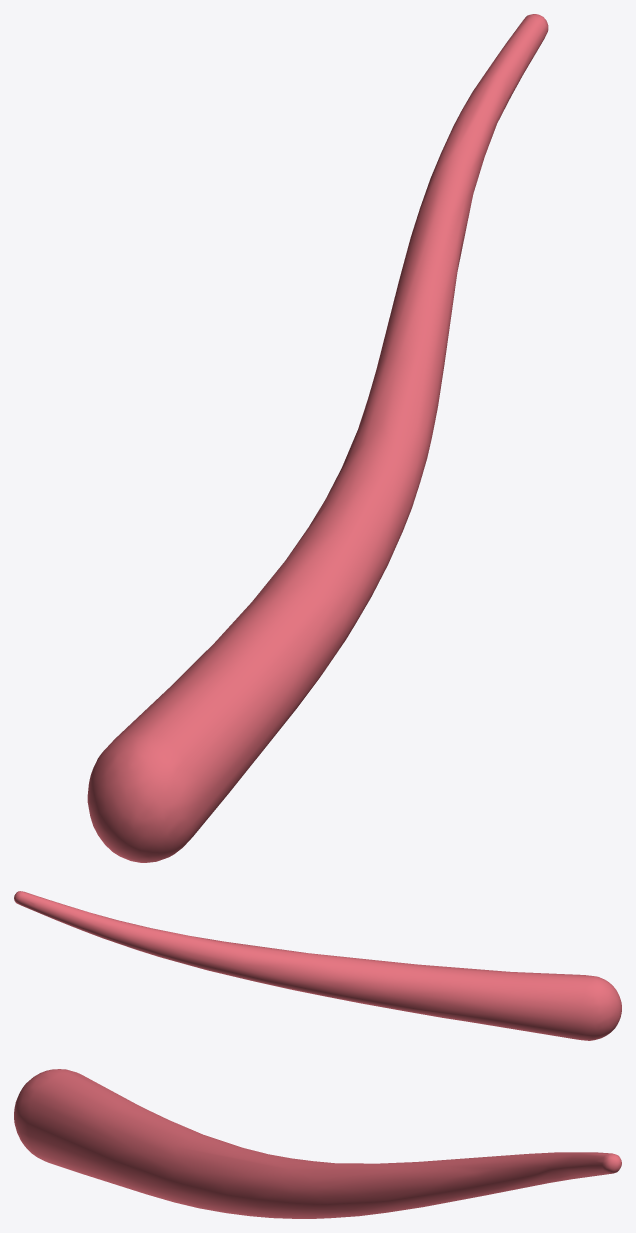
The model's file is fma70487_fj3458.glb.
The picture shows the model from 3 angles, top to bottom: view 1: azimuth 30°, elevation 25°; view 2: azimuth 150°, elevation 25°; view 3: azimuth 270°, elevation 25°; orthographic projection. The views are drawn at different scales.
Parts seen in each view (by area): view 1: FMA70487_FJ3458; view 2: FMA70487_FJ3458; view 3: FMA70487_FJ3458.
Boxes of the visible parts, <box> form: FMA70487_FJ3458: <box>87,14,548,862</box>; FMA70487_FJ3458: <box>14,891,621,1040</box>; FMA70487_FJ3458: <box>14,1069,621,1218</box>.
Bounding box in the file's own units: 0.0336 × 0.0148 × 0.029.
